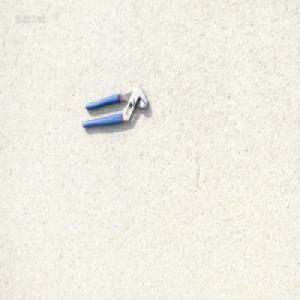Pliers: (81, 85, 150, 130)
